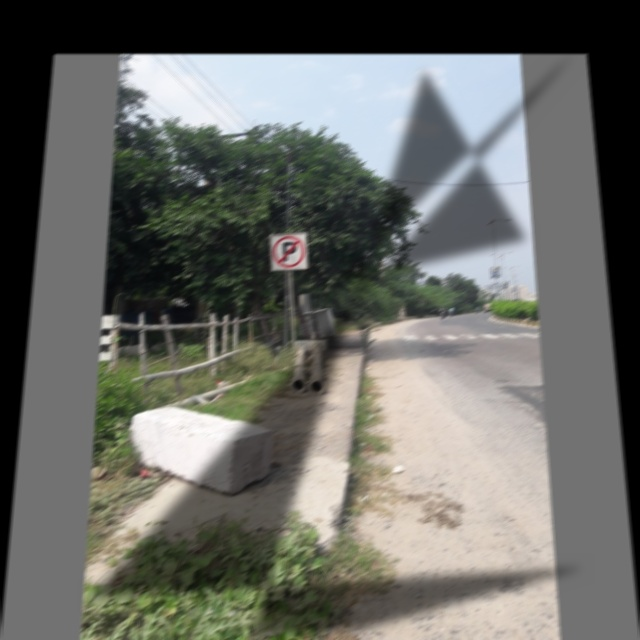No_Parking: (268, 231, 309, 273)
